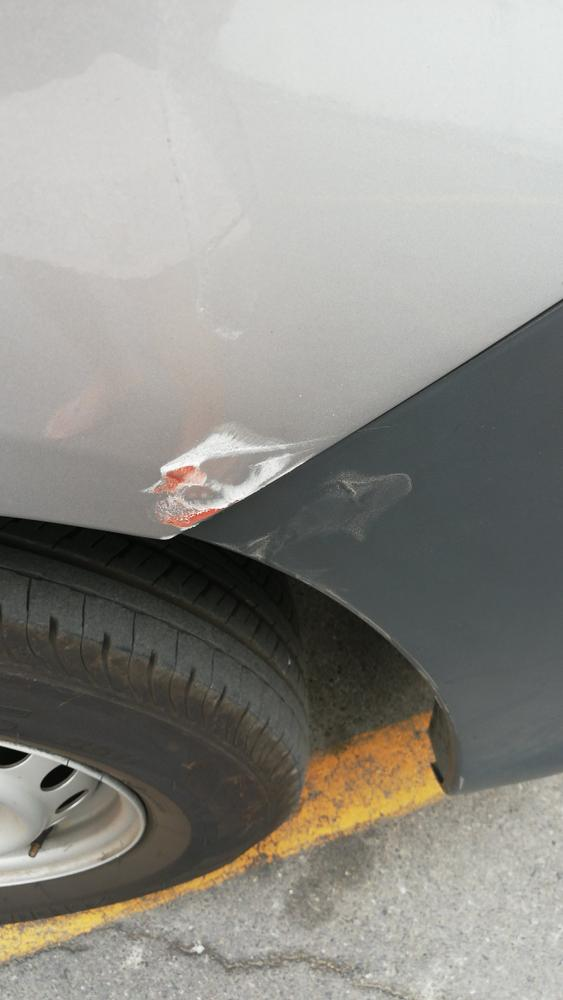scratch: (137, 418, 339, 542), (233, 465, 420, 591)
